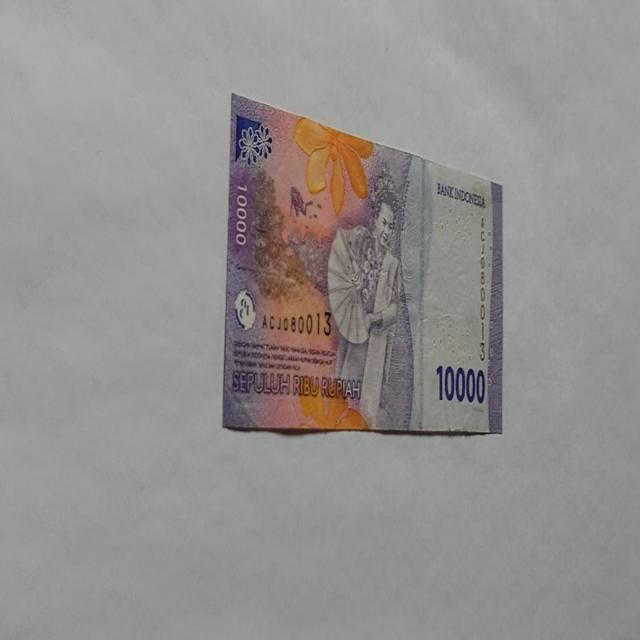sepuluh ribu rupiah: (222, 91, 504, 436)
